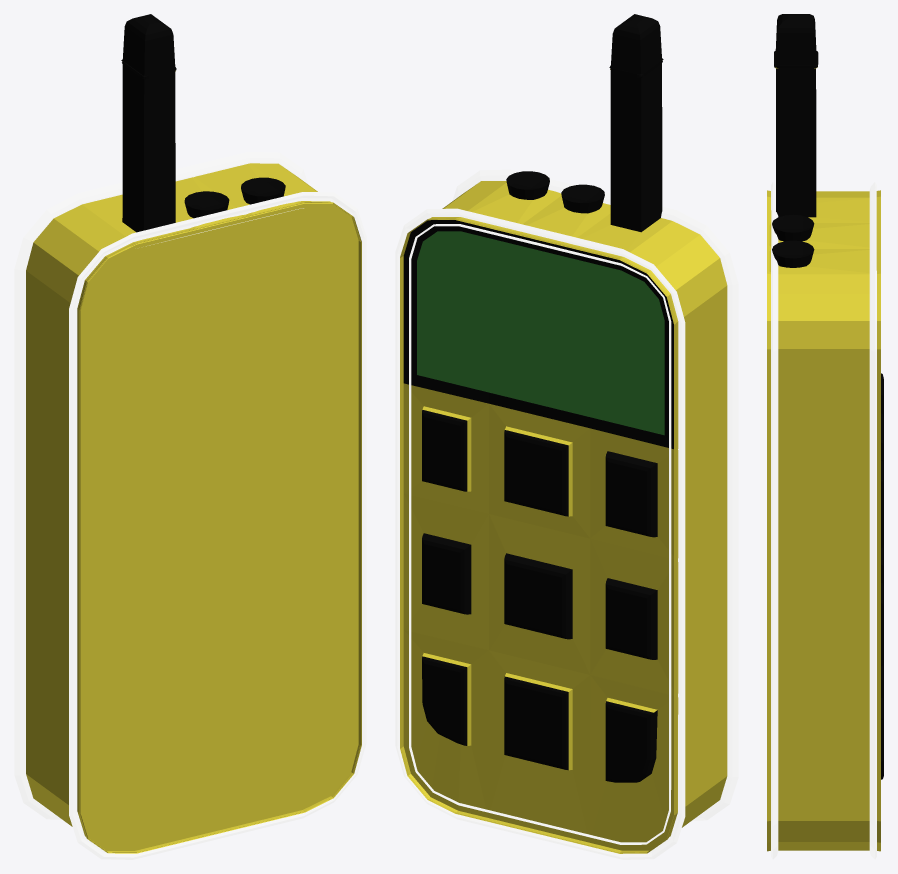
Rendered from walkieTalkie3.glb.
The picture shows the model from 3 angles, left to right: view 1: azimuth 30°, elevation 25°; view 2: azimuth 150°, elevation 25°; view 3: azimuth 270°, elevation 25°; orthographic projection. The views are drawn at different scales.
Parts seen in each view (by area): view 1: Cube; view 2: Cube; view 3: Cube.
Part boxes in pixels (x1=…): Cube: x1=14, y1=14, x2=366, y2=859; Cube: x1=395, y1=14, x2=738, y2=859; Cube: x1=767, y1=14, x2=883, y2=859.
Size of the model in its own units: 0.4575 by 1.21 by 0.1661.
